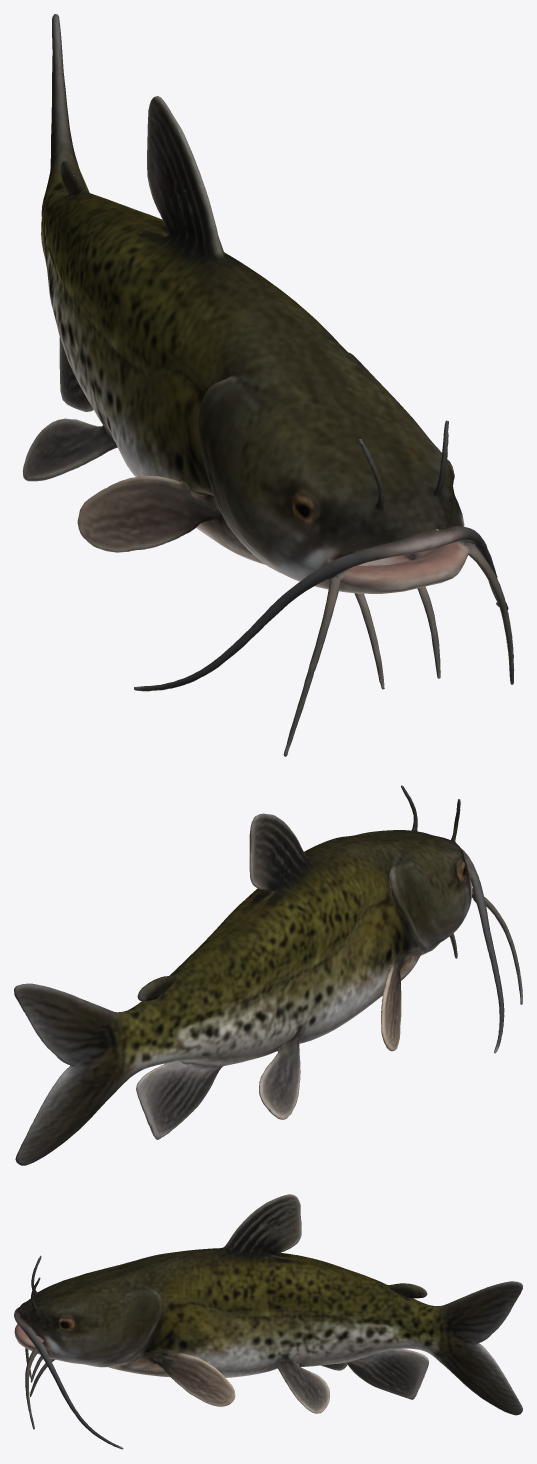
Rendered from 18_channel_catfish.glb.
3 renders of one model, top to bottom at view 1: azimuth 30°, elevation 25°; view 2: azimuth 150°, elevation 25°; view 3: azimuth 270°, elevation 25°, orthographic. The views are drawn at different scales.
Parts seen in each view (by area): view 1: world; view 2: world; view 3: world.
Boxes of the visible parts, x1,y1,x2,y2 form: world: [22, 14, 514, 756]; world: [14, 785, 522, 1165]; world: [14, 1194, 522, 1449].
Bounding box in the file's own units: 0.412 × 0.475 × 1.
Materials: 1 (1 with a texture image).
